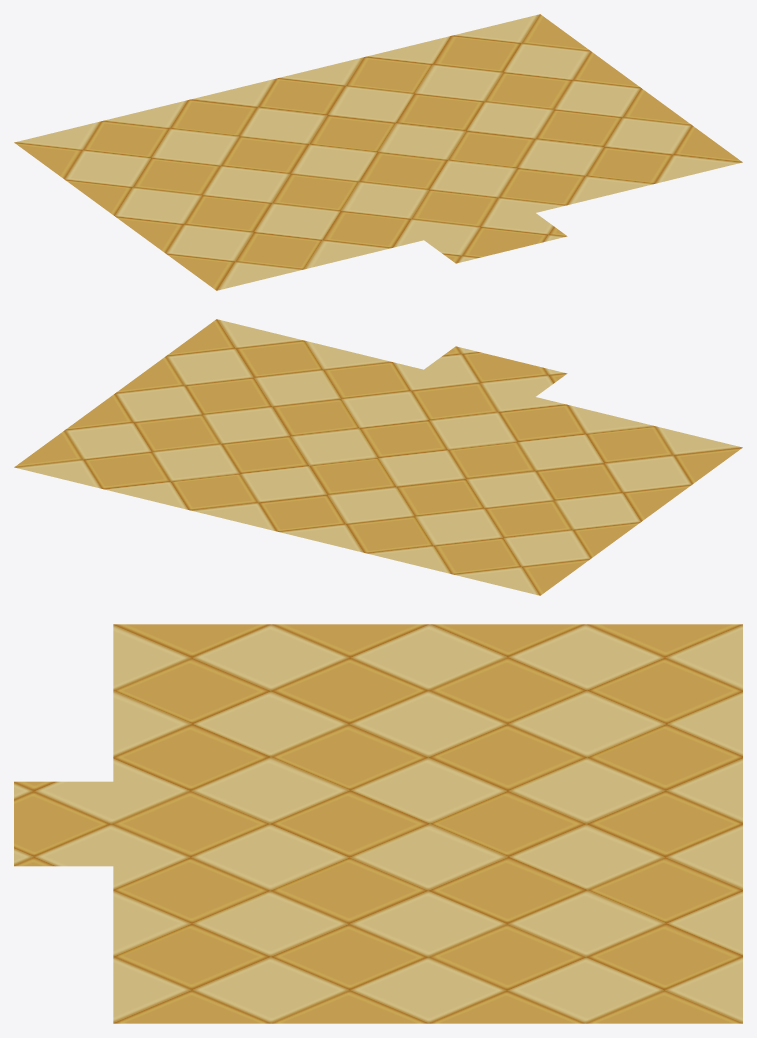
File: Floor03_c02.FBX
3 renders of one model, top to bottom at view 1: azimuth 30°, elevation 25°; view 2: azimuth 150°, elevation 25°; view 3: azimuth 270°, elevation 25°, orthographic. The views are drawn at different scales.
Visible parts, largest first — view 1: Floor03_c02; view 2: Floor03_c02; view 3: Floor03_c02.
Boxes of the visible parts, <box> form: Floor03_c02: <box>14,14,742,290</box>; Floor03_c02: <box>14,319,742,595</box>; Floor03_c02: <box>14,624,742,1023</box>.
Bounding box in the file's own units: 900 × 0.000446 × 695.
Materials: 1 (1 with a texture image).
